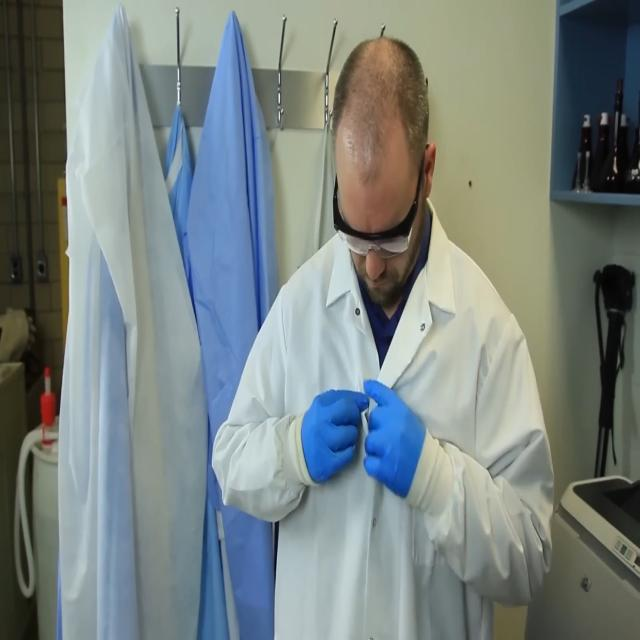googles: (328, 163, 429, 264)
labcoat: (210, 181, 556, 640), (55, 0, 212, 640), (183, 0, 284, 640), (158, 92, 202, 345)
